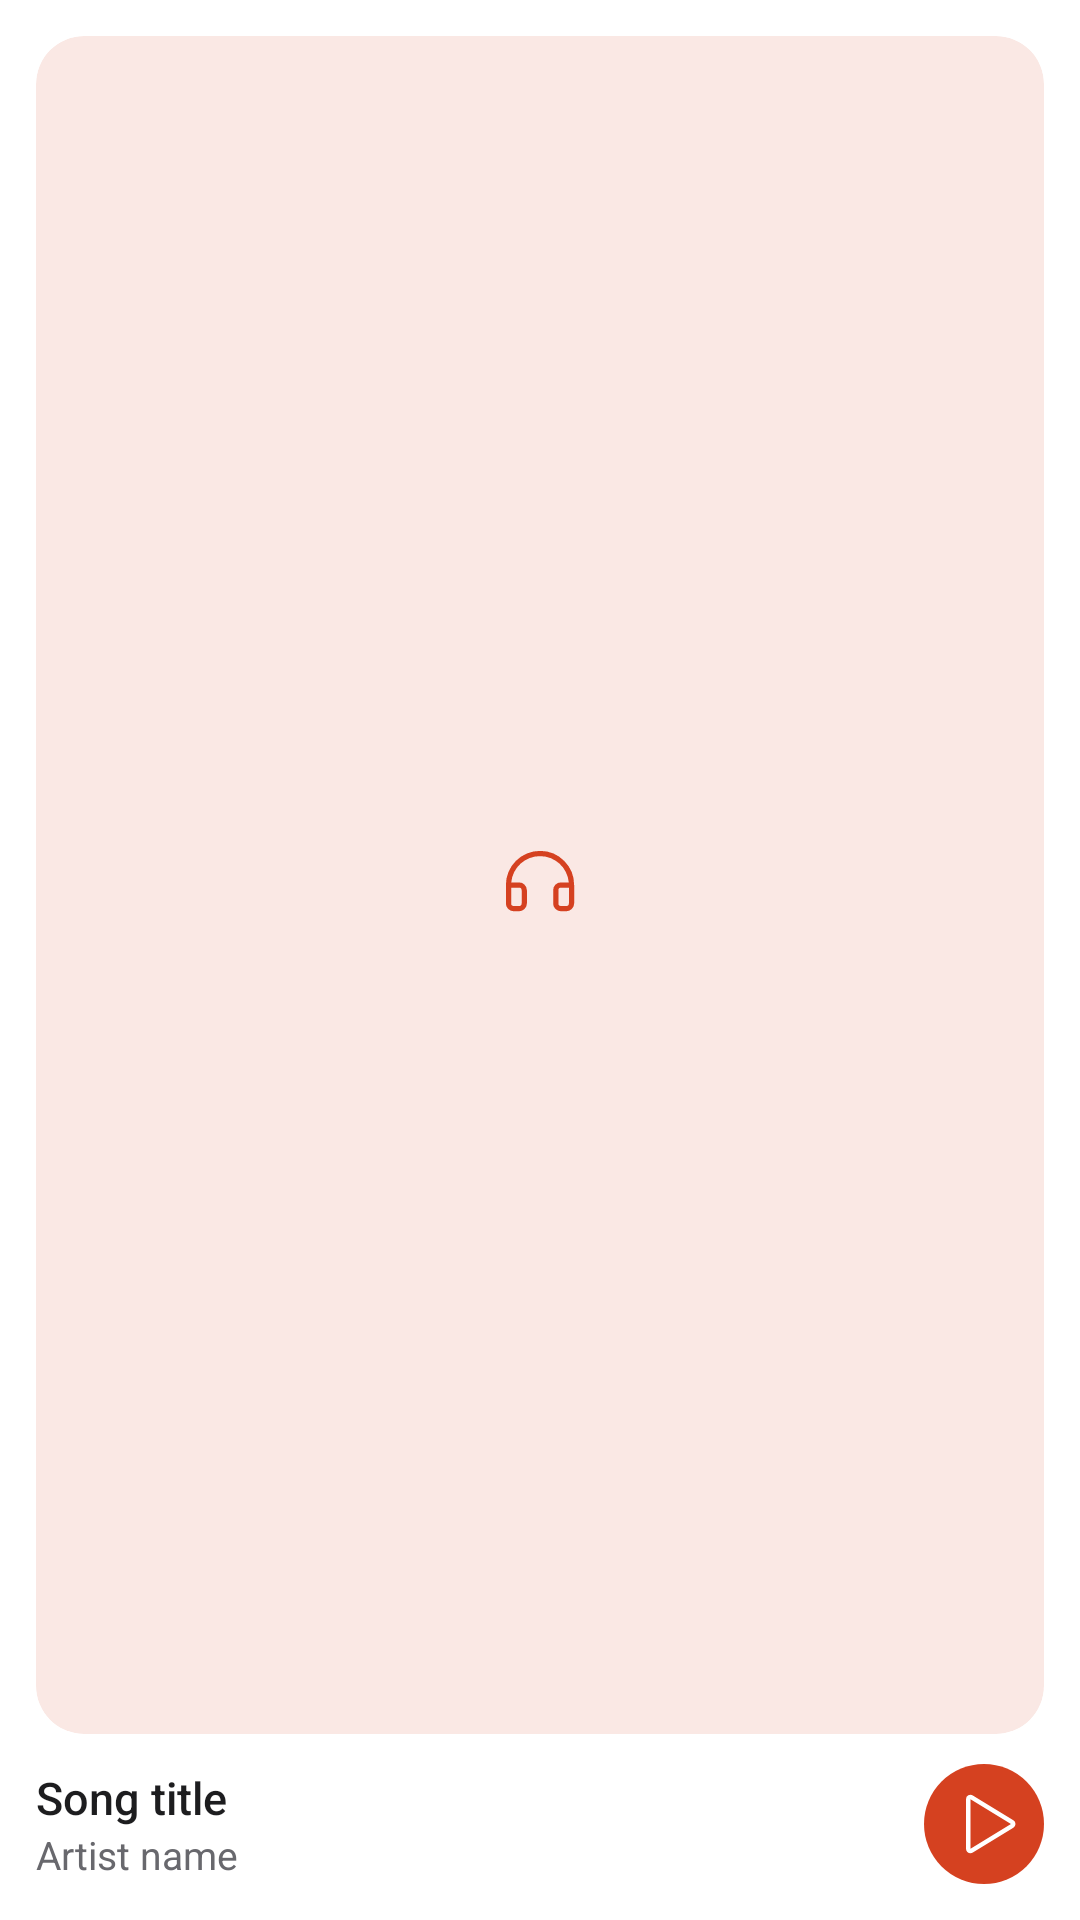

Point at icon controls on the screen. Image size 1080 × 1920, points as [x,y].
widget glyph play: [984,1824]
